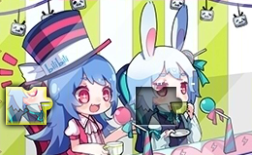gap: (136, 87, 182, 125)
